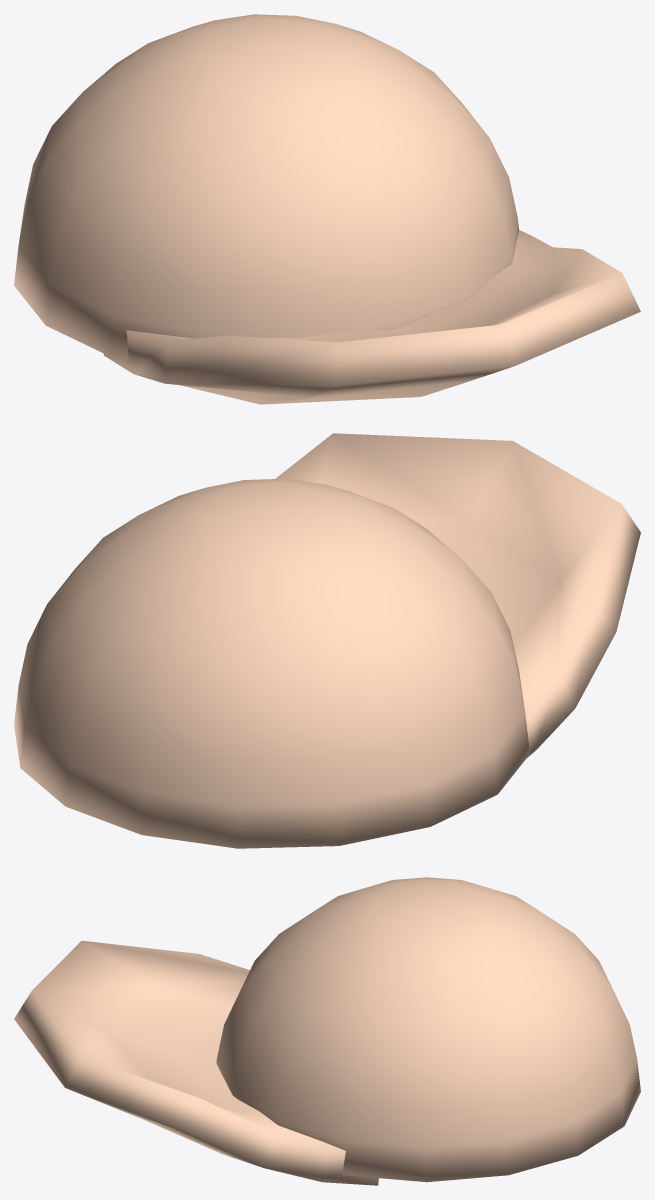
The model's file is Customer_03.fbx.
3 views of the same model, one above another, from view 1: azimuth 30°, elevation 25°; view 2: azimuth 150°, elevation 25°; view 3: azimuth 270°, elevation 25° (orthographic). The views are drawn at different scales.
Visible parts, largest first — view 1: Customer_03; view 2: Customer_03; view 3: Customer_03.
Part boxes in pixels (x1,y1,x2,y2): Customer_03: (14,14,640,404); Customer_03: (14,433,640,848); Customer_03: (14,877,640,1185).
Size of the model in its own units: 1.19 by 0.6759 by 1.74.
